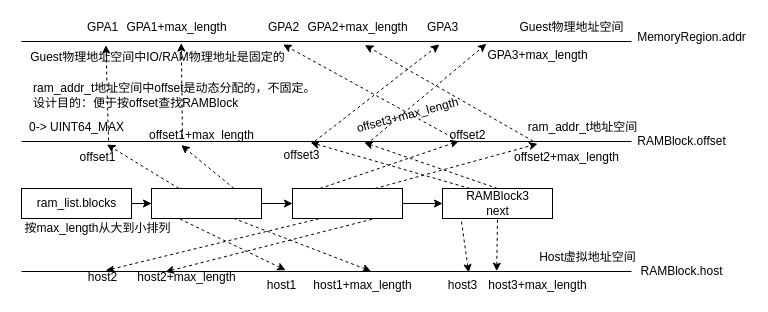
The diagram is 768 pixels wide and 312 high, and some of its shapes have lost their labels. Each missing label, with the centre of its shape:
"RAMBlock1 next" belongs at (206,203).
"RAMBlock2 next" belongs at (347,203).
